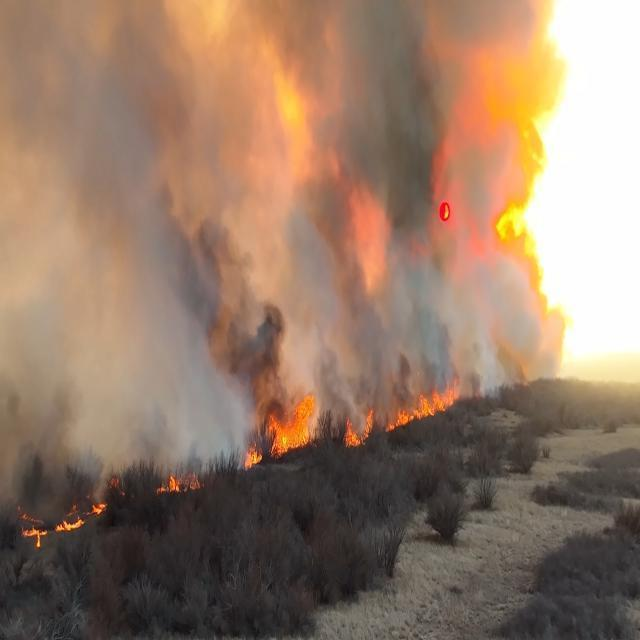Fire: (255, 384, 320, 461), (392, 387, 458, 437)
Smoke: (0, 0, 285, 399), (225, 0, 354, 394), (340, 0, 462, 372)
